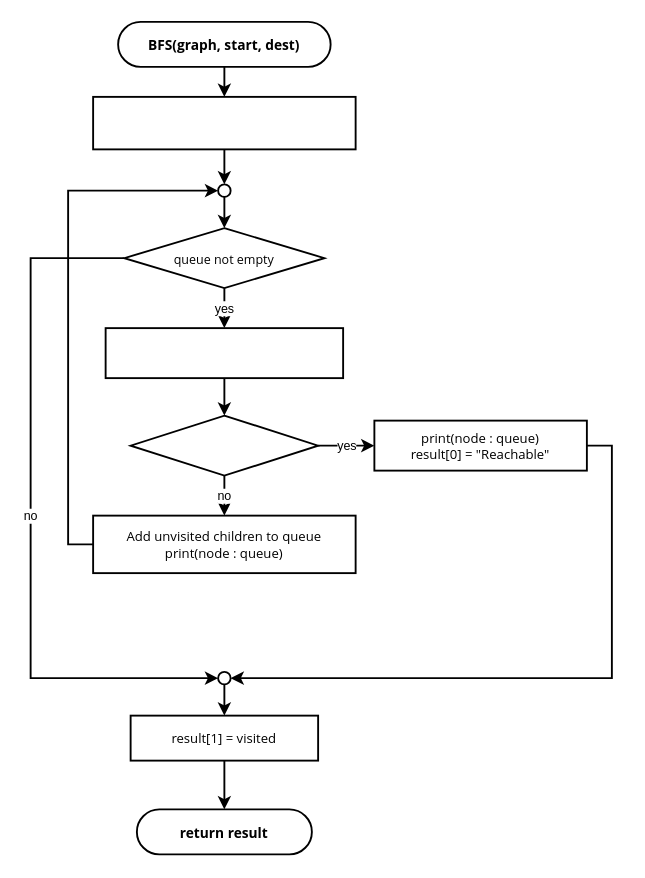
The diagram is 645 pixels wide and 878 high, and some of its shapes have lost their labels. The box of each missing label's shape, as (x1, y1, x2, y2) in pixels:
node = queue.pop(0) visited.append(node): (104, 327, 344, 378)
node == dest: (129, 414, 318, 476)
queue = [start], visited = [] result = ["Not reachable", []]: (92, 95, 356, 150)
